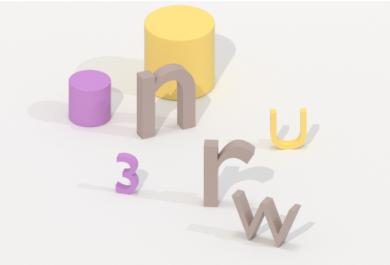0-KhoiTru: (139, 2, 223, 104), (65, 67, 117, 131)
3: (111, 148, 144, 198)
U: (265, 102, 315, 155)
W: (228, 185, 303, 249)
n: (132, 62, 198, 142)
r: (201, 134, 256, 211)
